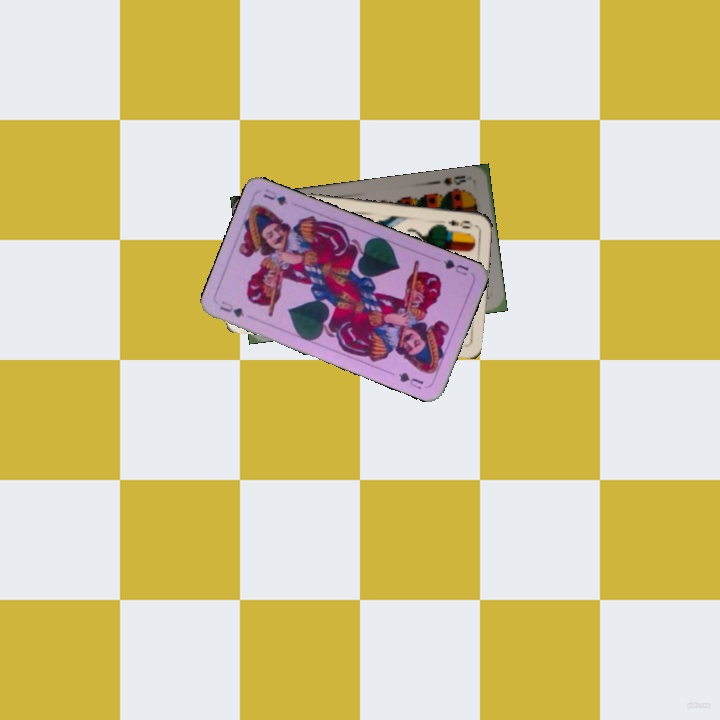EO: (443, 216, 473, 231)
GU: (439, 255, 471, 278), (215, 297, 246, 320)
S8: (439, 171, 474, 188)
